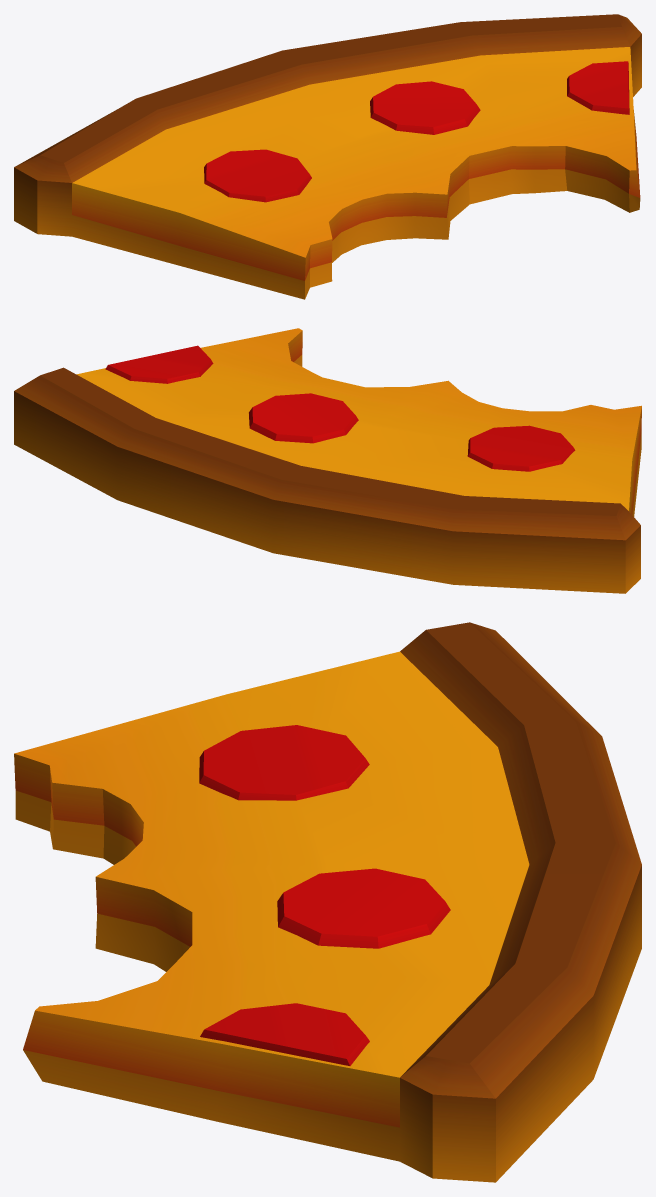
The model's file is pizzaEaten.glb.
3 renders of one model, top to bottom at view 1: azimuth 30°, elevation 25°; view 2: azimuth 150°, elevation 25°; view 3: azimuth 270°, elevation 25°, orthographic. The views are drawn at different scales.
Parts seen in each view (by area): view 1: Pizza_Slice_HalfEaten; view 2: Pizza_Slice_HalfEaten; view 3: Pizza_Slice_HalfEaten.
Part boxes in pixels (x1,y1,x2,y2): Pizza_Slice_HalfEaten: [14, 14, 641, 299]; Pizza_Slice_HalfEaten: [14, 328, 641, 593]; Pizza_Slice_HalfEaten: [14, 622, 641, 1182].
Size of the model in its own units: 1.02 by 0.1079 by 0.581.
1 material, 1 textured.
